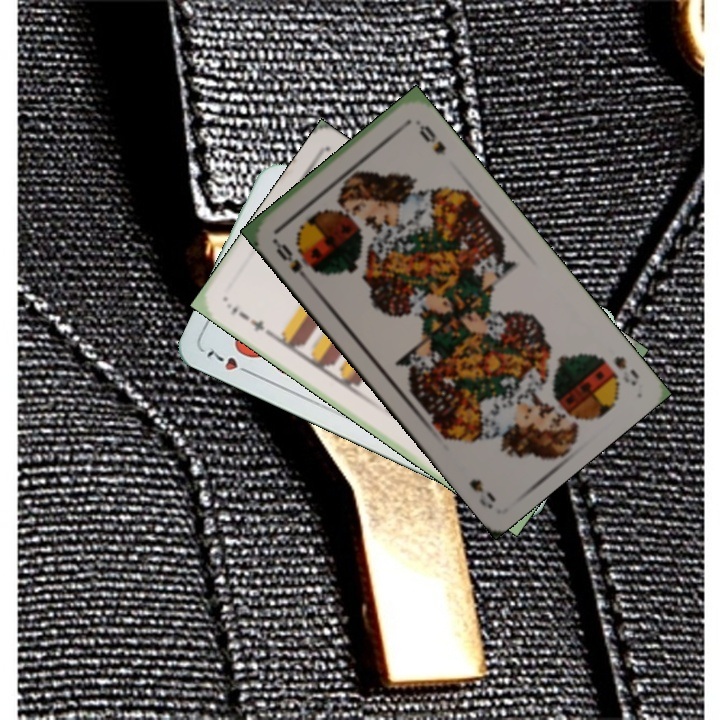E7: (226, 301, 274, 338)
H7: (202, 346, 257, 378)
SO: (269, 235, 312, 285), (610, 352, 642, 389)
